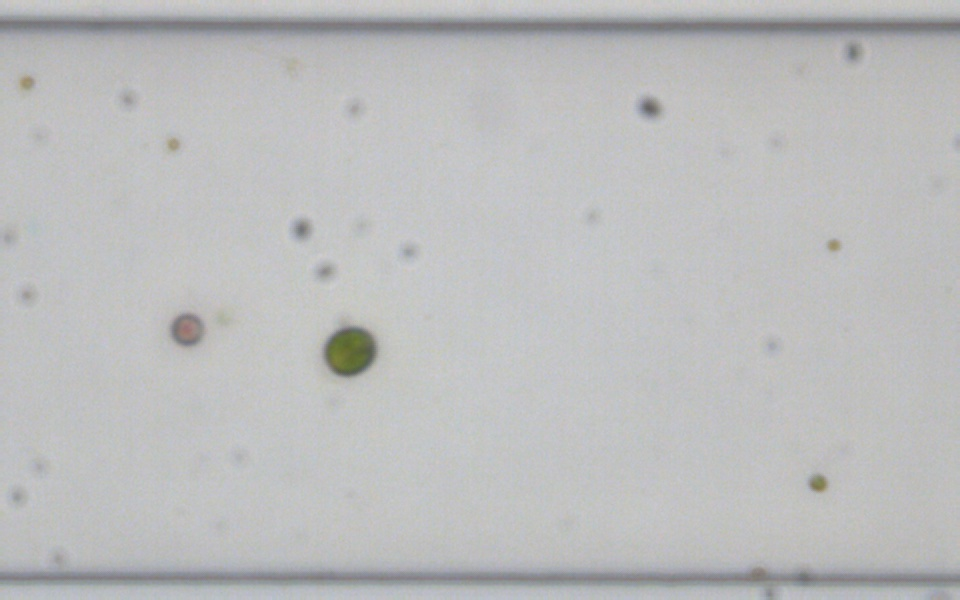Chlorella: (808, 472, 827, 491), (824, 236, 840, 252), (18, 74, 34, 89), (166, 136, 180, 149)
Platymonas: (319, 322, 378, 378)
Porphyridium: (167, 310, 205, 347)
